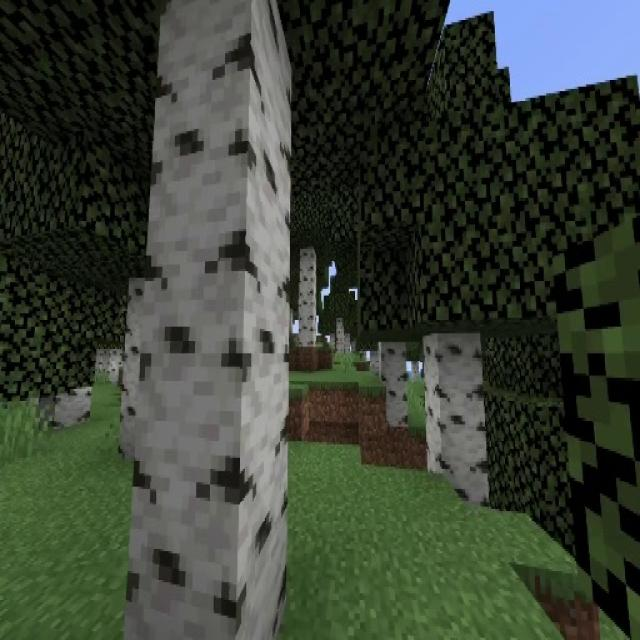birch_log: (129, 7, 286, 640), (425, 328, 488, 498), (380, 339, 411, 427), (39, 389, 91, 428), (298, 251, 316, 350), (101, 351, 119, 384), (337, 317, 344, 351)
